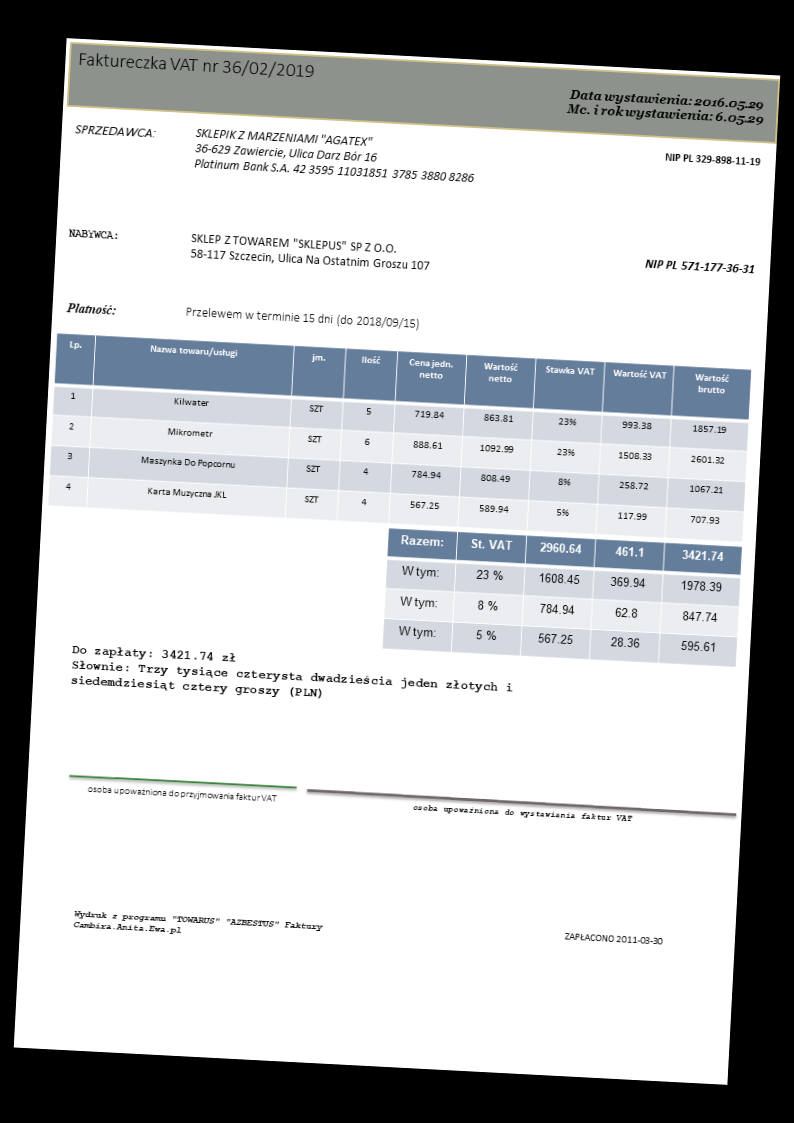Table: (46, 332, 751, 544), (382, 527, 742, 669)
TextBox: (67, 641, 519, 712), (189, 123, 479, 190), (187, 230, 433, 274), (69, 908, 328, 946), (563, 84, 768, 131), (74, 47, 317, 82), (183, 305, 422, 332), (410, 801, 634, 825), (84, 783, 279, 805), (642, 256, 756, 277), (661, 148, 761, 171), (562, 928, 666, 948), (70, 120, 158, 143), (65, 225, 120, 244), (64, 299, 118, 317)
